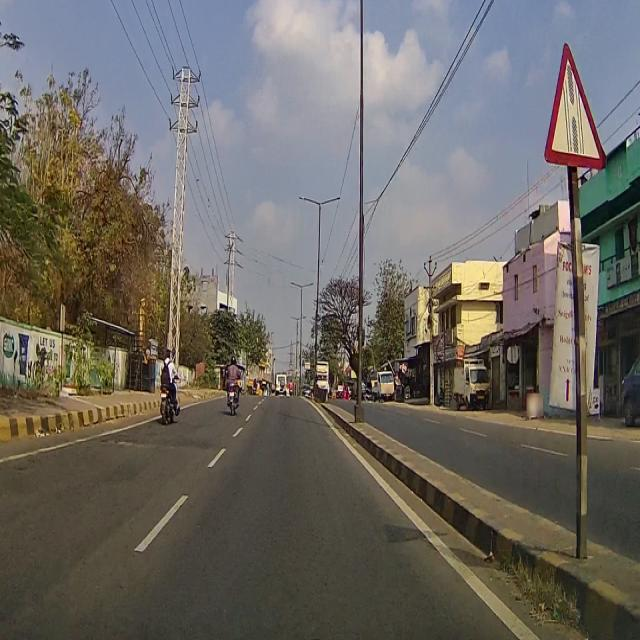gap-in-median: (533, 40, 612, 166)
